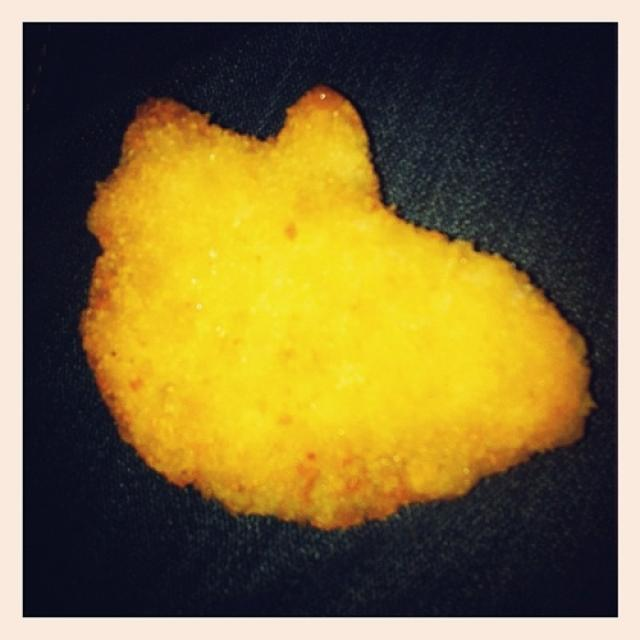鸡肉料理 含炸鸡: (58, 74, 598, 562)
